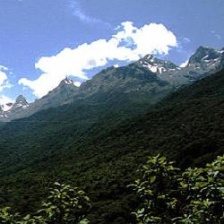neutral: (6, 11, 222, 224)
